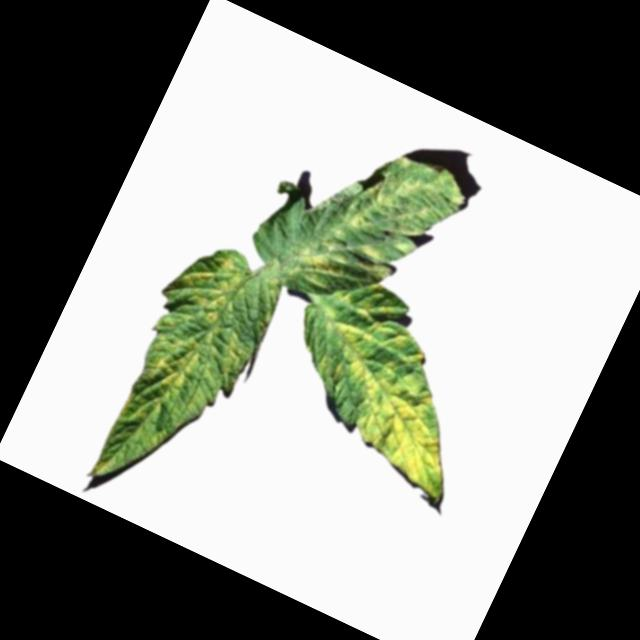Leaf_Mold: (79, 230, 296, 521), (259, 265, 514, 510), (287, 126, 471, 326)
